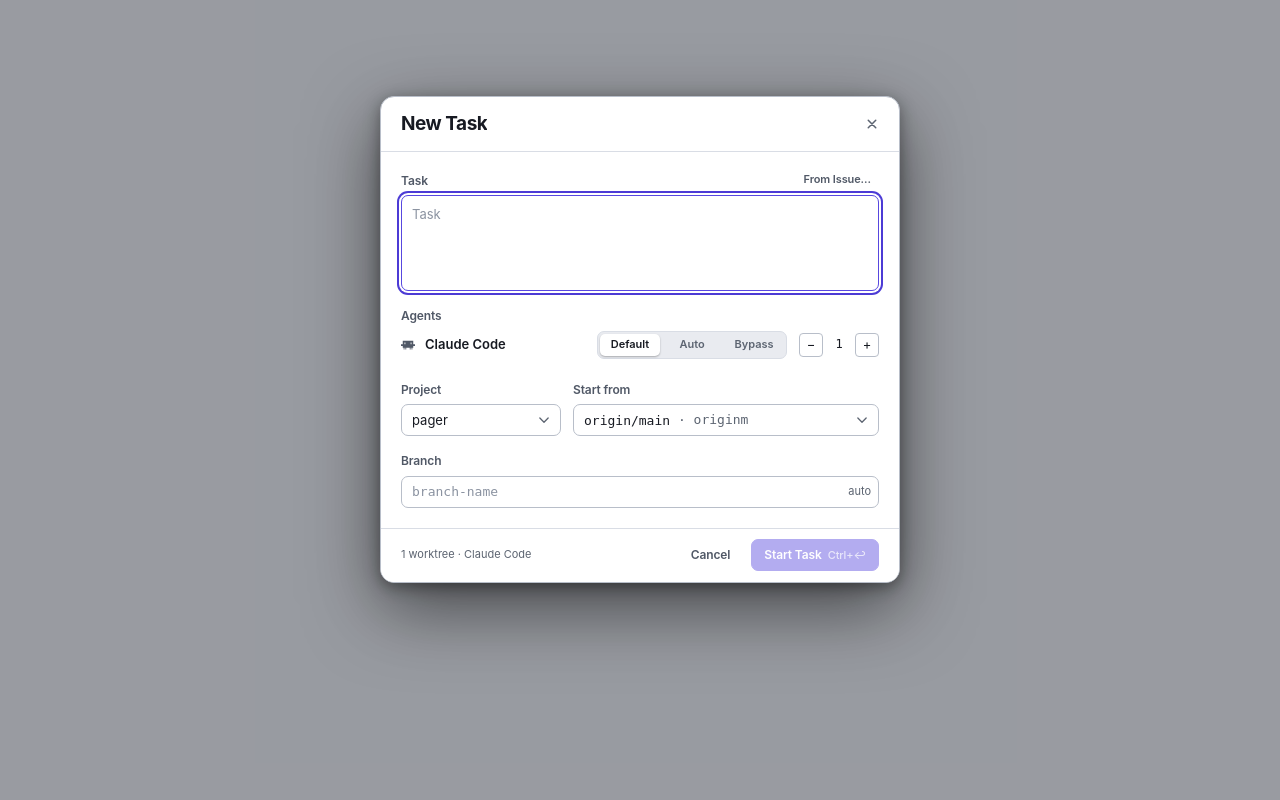
Test: what it will not submit › takes the new project’s own base ref once its listing lands
Select "relay" in the dropdown labelled "Project". click: (481, 420)
box: [401,404,561,436]
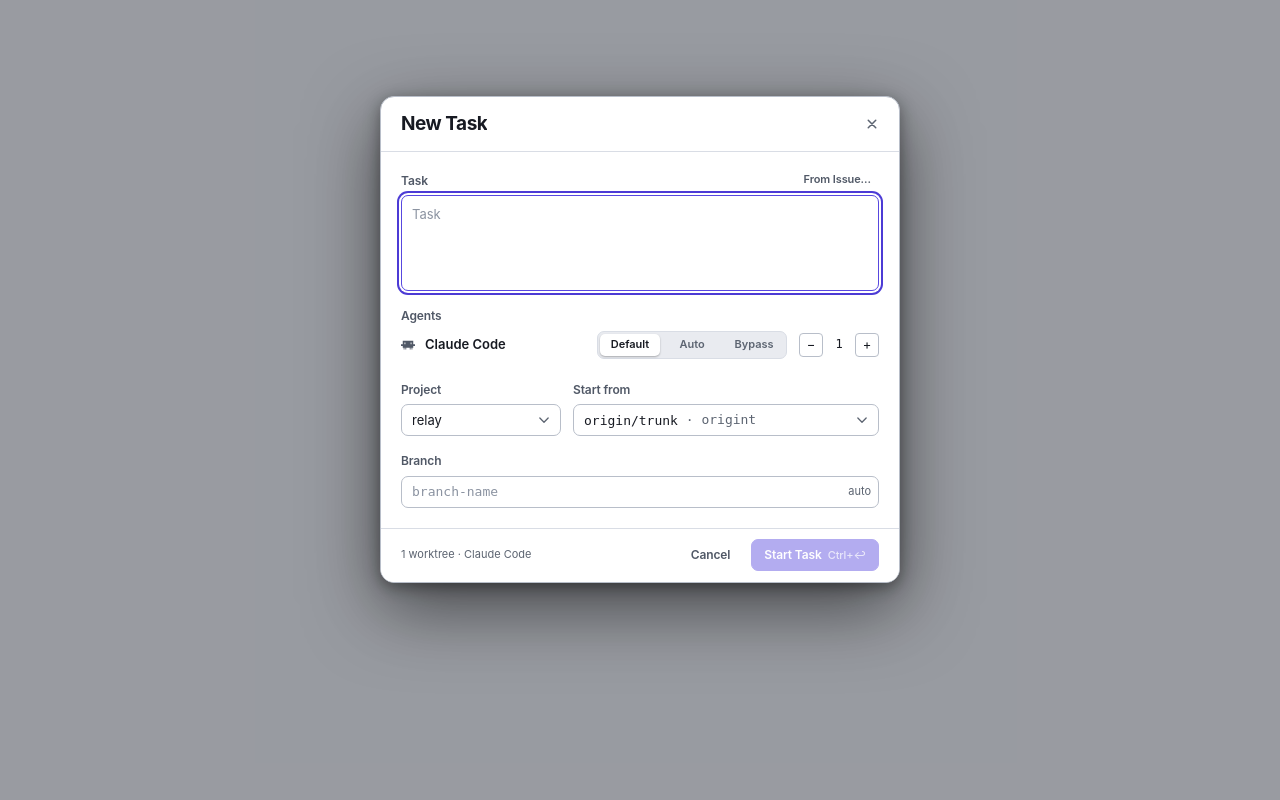
Result: the dropdown labelled "Start from" holds "origin/trunk" at [573,404,879,436]
